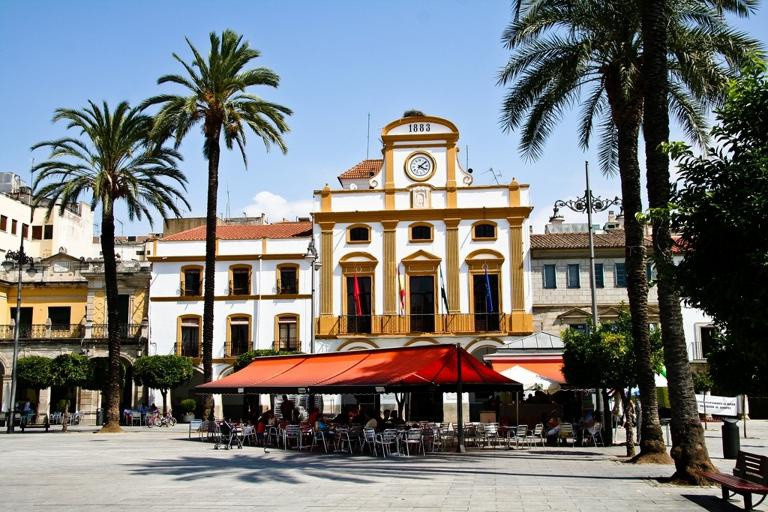non-vehicle: (146, 407, 162, 429), (160, 409, 178, 427)
